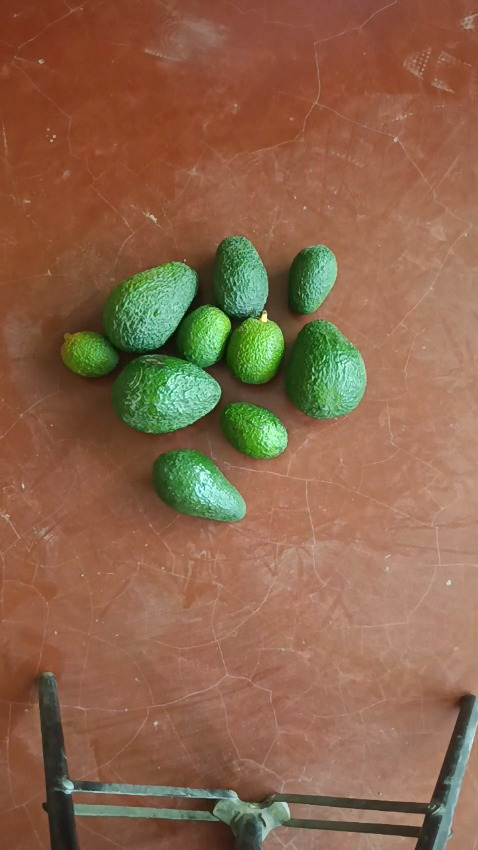Primera: (102, 261, 199, 352), (111, 354, 221, 433), (284, 320, 366, 418)
Segunda: (151, 449, 246, 521), (212, 236, 268, 321)
Tercera: (219, 402, 288, 460), (226, 318, 284, 384), (174, 305, 232, 369), (287, 245, 337, 316), (60, 330, 118, 378)
